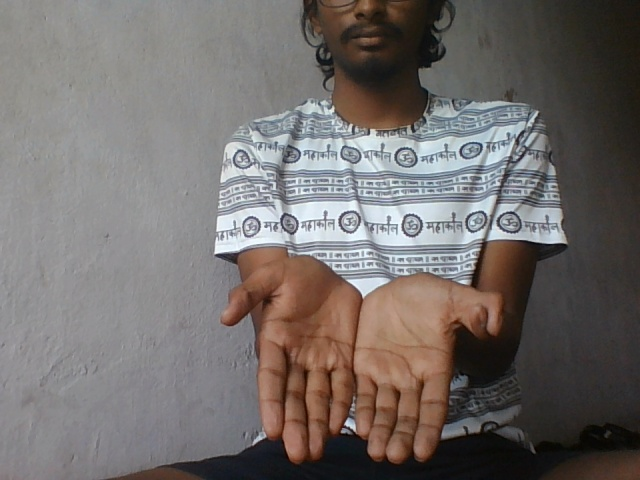Help: (222, 258, 506, 465)
